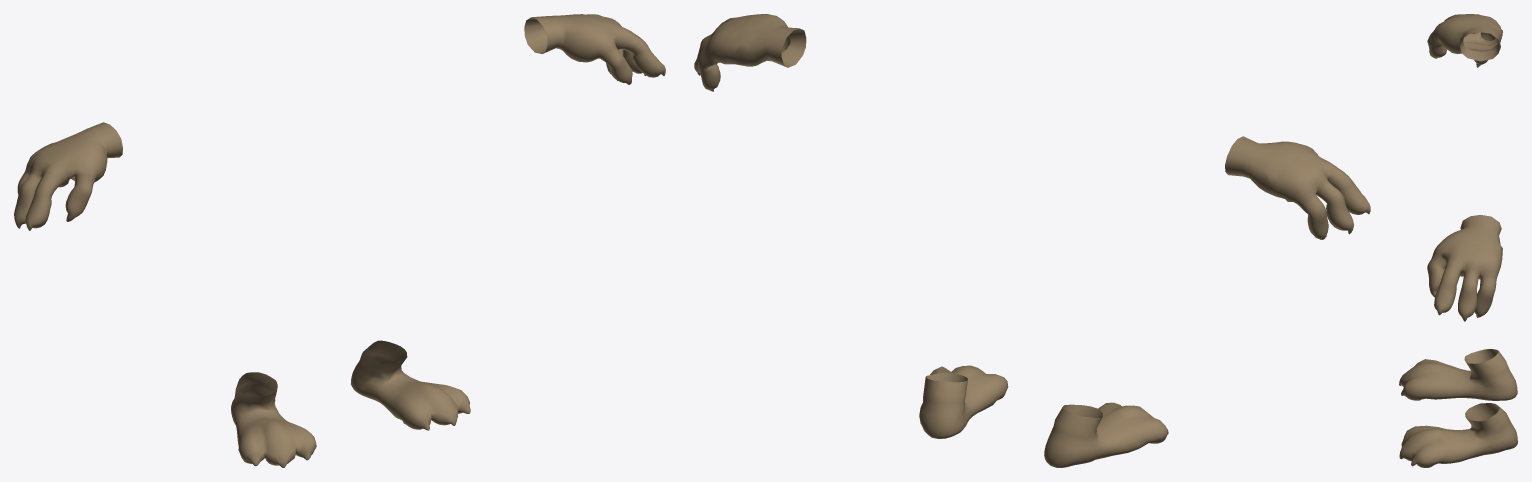
Rendered from FPS_Cat_Mesh (1).fbx.
3 renders of one model, left to right at view 1: azimuth 30°, elevation 25°; view 2: azimuth 150°, elevation 25°; view 3: azimuth 270°, elevation 25°, orthographic. The views are drawn at different scales.
Visible parts, largest first — view 1: R_Paws, L_Paws, L_Foot, R_Foot; view 2: R_Paws, R_Foot, L_Paws, L_Foot; view 3: L_Paws, L_Foot, R_Foot, R_Paws.
Part boxes in pixels (x1,y1,x2,y2): R_Paws: (14, 122, 122, 230); L_Paws: (524, 14, 665, 84); L_Foot: (351, 340, 470, 430); R_Foot: (231, 372, 316, 467); R_Paws: (1225, 136, 1370, 239); R_Foot: (1044, 402, 1168, 467); L_Paws: (694, 14, 806, 91); L_Foot: (919, 365, 1008, 438); L_Paws: (1427, 215, 1502, 321); L_Foot: (1399, 403, 1517, 467); R_Foot: (1399, 349, 1517, 400); R_Paws: (1427, 14, 1502, 67).
Size of the model in its own units: 112 by 57.74 by 20.71.
